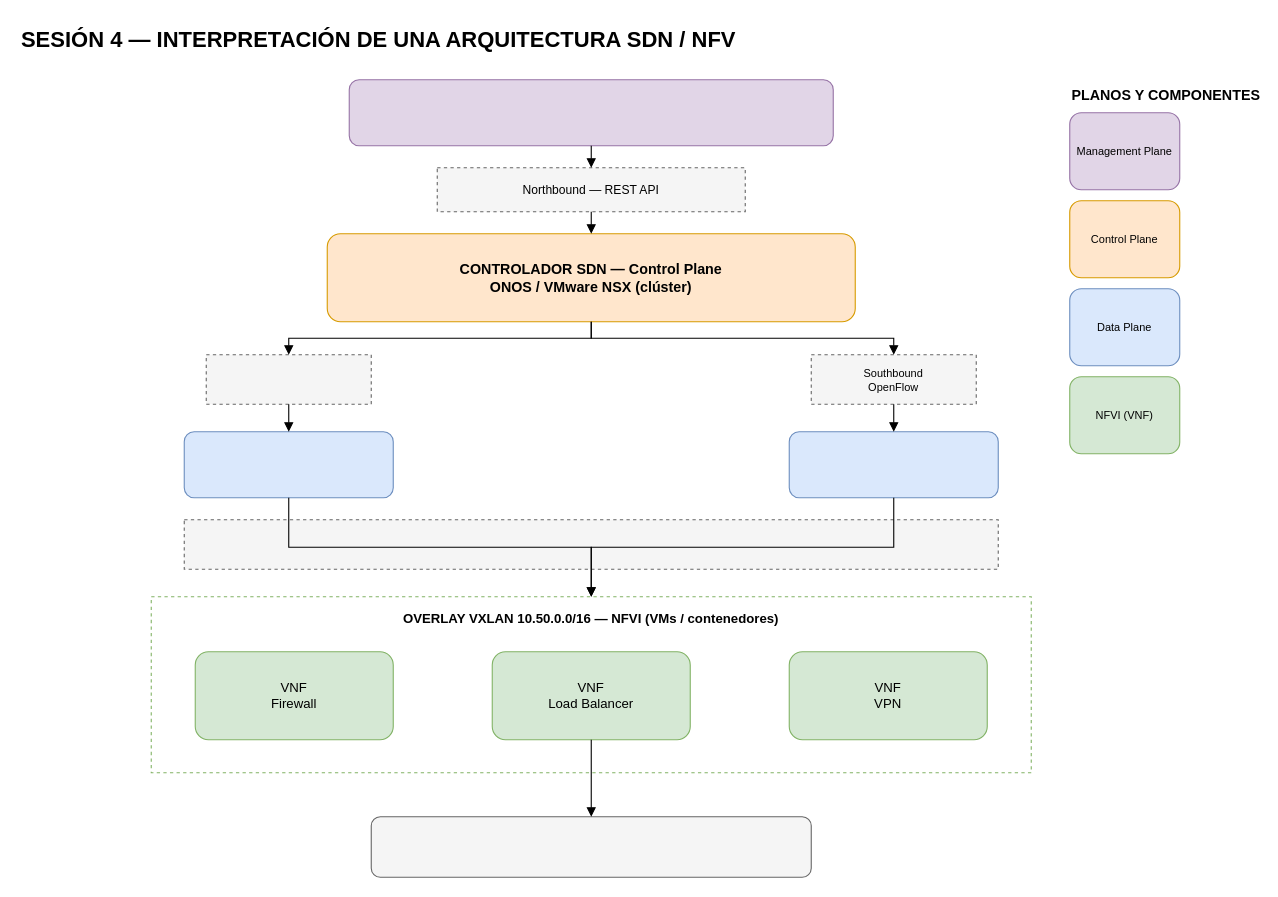
This 1278x897 diagram has some shape labels left out. Each missing label, with the centre of its shape:
"Aplicación de política (Portal / API) — Management Plane" goes at [590,112].
"Internet / Cloud (VPN)" goes at [590,846].
"Southbound NETCONF" goes at [288,379].
"Switch A (Data Plane)" goes at [288,464].
"Switch B (Data Plane)" goes at [893,464].
"UNDERLAY — red física (spine / leaf, IP)" goes at [590,544].
